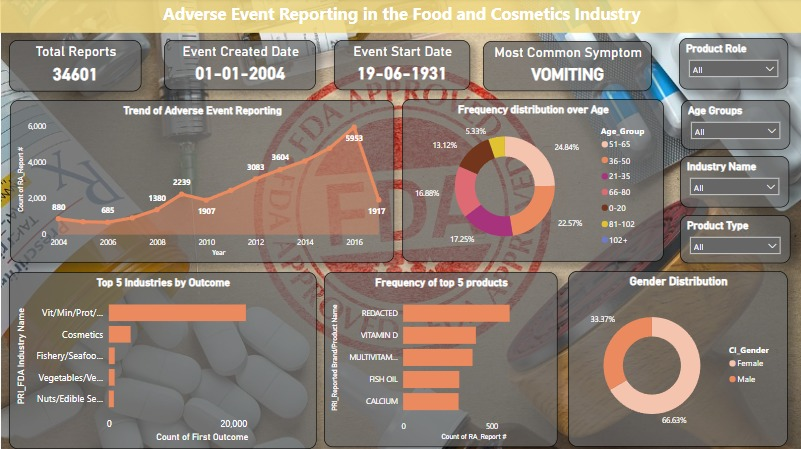

This screenshot's page, from the dashboard's own definition file:
{"tool":"powerbi","page":{"name":"Dashboard","canvas":[1280,720],"ordinal":0},"visuals":[{"type":"textbox","box":[0,0,1280,55.3],"z":1000},{"type":"card","title":"Total Reports","fields":{"Values":["CountNonNull(CAERS_ASCII_2004_2017Q2.RA_Report #)"]},"box":[15.1,66.6,211.2,81.7],"z":2000},{"type":"card","title":"Event Created Date","fields":{"Values":["Min(CAERS_ASCII_2004_2017Q2.RA_CAERS Created Date)"]},"box":[262,66.3,242.4,79.8],"z":3000},{"type":"card","title":"Event Start Date","fields":{"Values":["Min(CAERS_ASCII_2004_2017Q2.AEC_Event Start Date)"]},"box":[531.6,66.3,216.8,79.8],"z":4000},{"type":"card","title":"Most Common Symptom","fields":{"Values":["CAERS_ASCII_2004_2017Q2.Most Common Symptom"]},"box":[769.4,68.5,269.2,79.6],"z":5000},{"type":"donutChart","title":"Frequency distribution over Age","fields":{"Category":["CAERS_ASCII_2004_2017Q2.Age_Group"],"Y":["CountNonNull(CAERS_ASCII_2004_2017Q2.Age_Group)"]},"box":[640,160.9,416.6,259.4],"z":6000},{"type":"lineChart","title":"Trend of Adverse Event Reporting","fields":{"Y":["CountNonNull(CAERS_ASCII_2004_2017Q2.RA_Report #)"],"Category":["CAERS_ASCII_2004_2017Q2.RA_CAERS Created Date.Variation.Date Hierarchy.Year"]},"box":[15.1,162.8,611.6,259.4],"z":7000},{"type":"barChart","title":"Top 5 Industries by Outcome","fields":{"Category":["CAERS_ASCII_2004_2017Q2.PRI_FDA Industry Name"],"Y":["CountNonNull(CAERS_ASCII_2004_2017Q2.First Outcome)"]},"box":[14.5,436.7,489.8,282],"z":8000},{"type":"donutChart","title":"Gender Distribution","fields":{"Category":["CAERS_ASCII_2004_2017Q2.CI_Gender"],"Y":["CountNonNull(CAERS_ASCII_2004_2017Q2.CI_Gender)"]},"box":[905.1,435.5,350.3,280.2],"z":9000},{"type":"clusteredBarChart","title":"Frequency of top 5 products","fields":{"Category":["CAERS_ASCII_2004_2017Q2.PRI_Reported Brand/Product Name"],"Y":["CountNonNull(CAERS_ASCII_2004_2017Q2.RA_Report #)"]},"box":[516.8,436.3,372.2,279.1],"z":10000},{"type":"slicer","title":"Product Role","fields":{"Values":["CAERS_ASCII_2004_2017Q2.PRI_Product Role"]},"box":[1081.3,64.1,173.5,81.7],"z":11000},{"type":"slicer","title":"Age Groups","fields":{"Values":["CAERS_ASCII_2004_2017Q2.Age_Group"]},"box":[1085.1,162.2,173.5,79.2],"z":12000},{"type":"slicer","title":"Industry Name","fields":{"Values":["CAERS_ASCII_2004_2017Q2.PRI_FDA Industry Name"]},"box":[1083.9,251.5,173.5,81.7],"z":13000},{"type":"slicer","title":"Product Type","fields":{"Values":["CAERS_ASCII_2004_2017Q2.PRI_Reported Brand/Product Name"]},"box":[1082.6,345.8,176,76.7],"z":14000}]}

Visuals, with their boxes in screenshot pixels (x1, y1, x2, y2), scaled from the page's 1280x720 canvas onto the 801x449 screenshot:
textbox: [left=0, top=0, right=800, bottom=34]
"Total Reports" card: [left=9, top=42, right=142, bottom=92]
"Event Created Date" card: [left=164, top=41, right=316, bottom=91]
"Event Start Date" card: [left=333, top=41, right=468, bottom=91]
"Most Common Symptom" card: [left=481, top=43, right=650, bottom=92]
"Frequency distribution over Age" donutChart: [left=400, top=100, right=661, bottom=262]
"Trend of Adverse Event Reporting" lineChart: [left=9, top=102, right=392, bottom=263]
"Top 5 Industries by Outcome" barChart: [left=9, top=272, right=316, bottom=448]
"Gender Distribution" donutChart: [left=566, top=272, right=786, bottom=446]
"Frequency of top 5 products" clusteredBarChart: [left=323, top=272, right=556, bottom=446]
"Product Role" slicer: [left=677, top=40, right=785, bottom=91]
"Age Groups" slicer: [left=679, top=101, right=788, bottom=151]
"Industry Name" slicer: [left=678, top=157, right=787, bottom=208]
"Product Type" slicer: [left=677, top=216, right=788, bottom=263]
